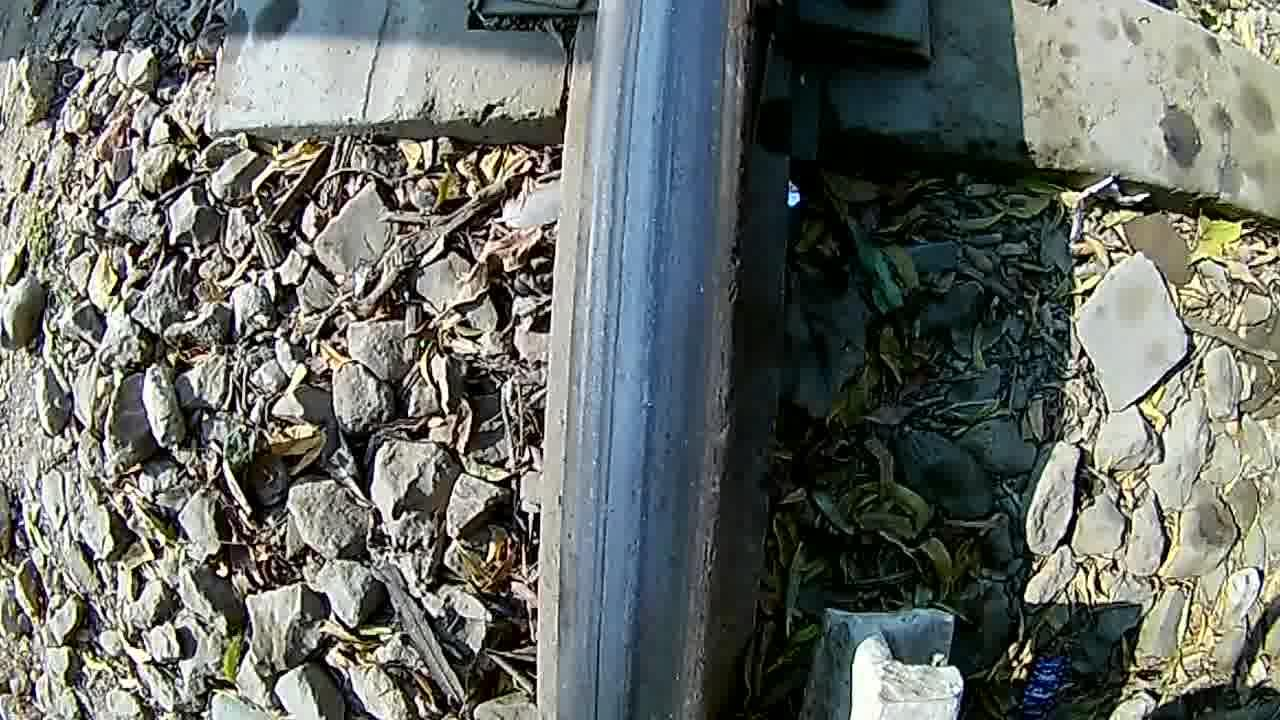clip_missing: (520, 0, 749, 718)
